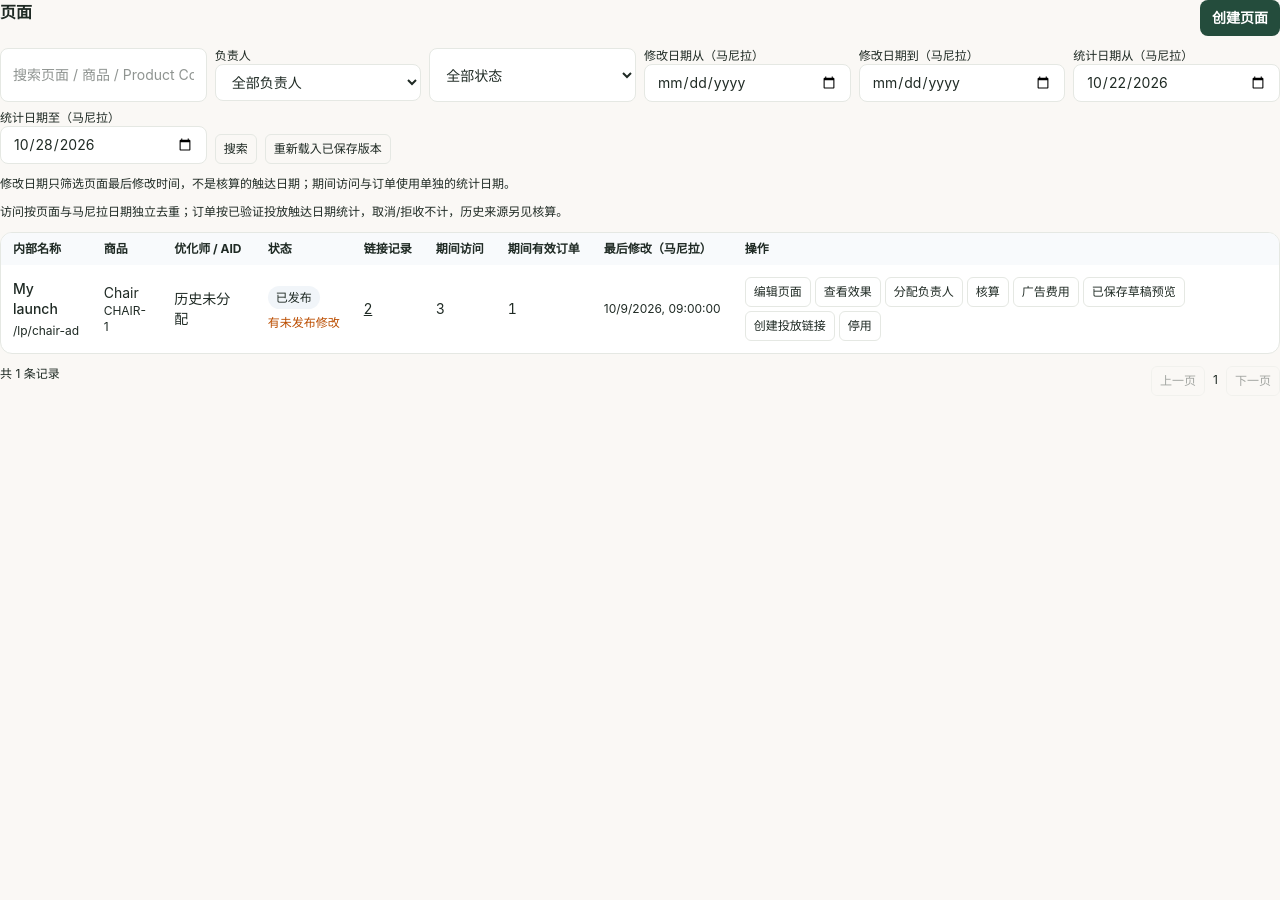
Test: marketing page workbench › assigns a legacy page using its real version, preserves a conflicted choice and reloads only explicitly
Expected: the text "My launch" is shown, x1=13 y1=280 x2=58 y2=317
Click the button "分配负责人" at (924,292), box x1=885 y1=277 x2=963 y2=307
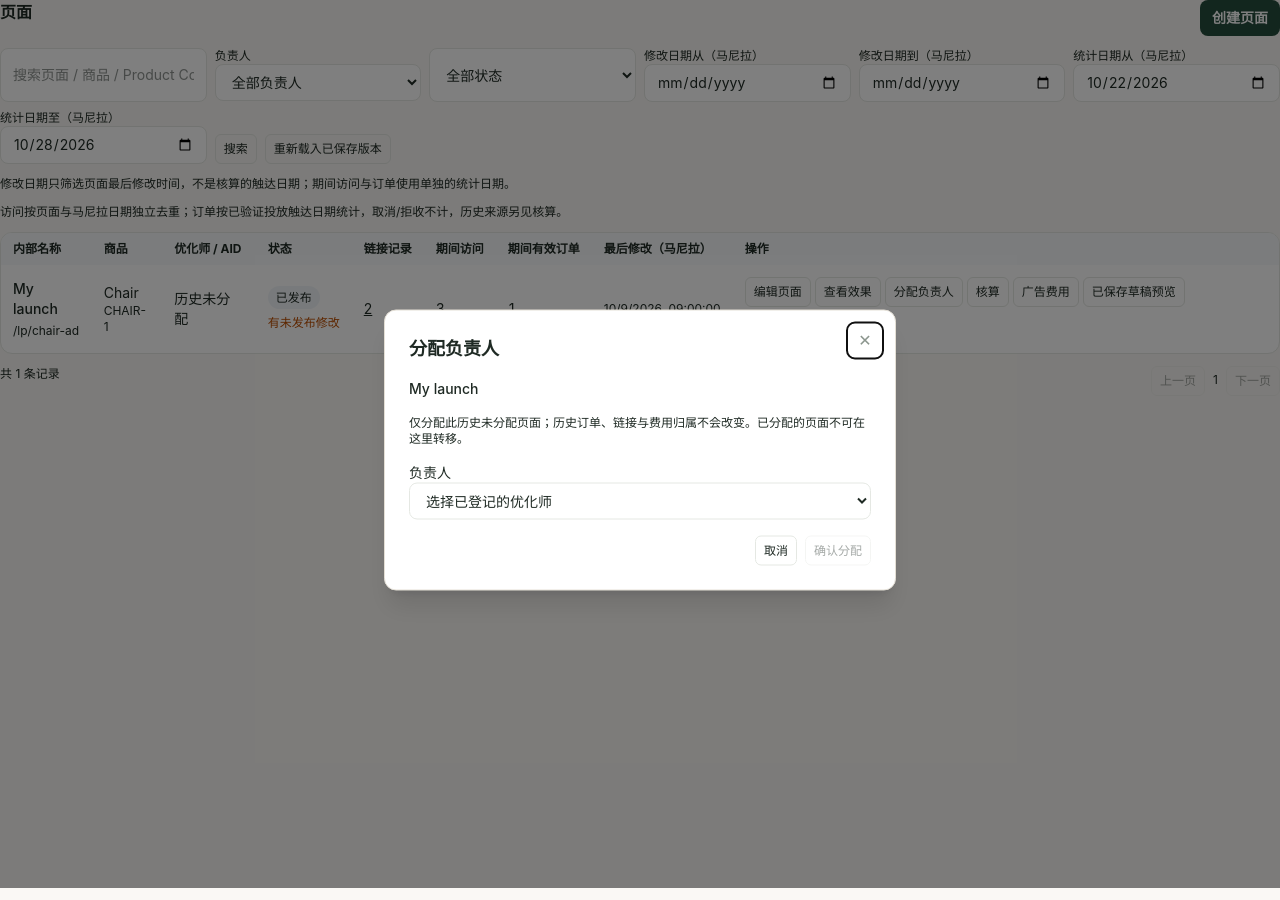
Now the text "仅分配此历史未分配页面；历史订单、链接与费用归属不会改变。已分配的页面不可在这里转移。" is shown, box x1=409 y1=414 x2=871 y2=446
Select "Optimizer · OP-1" in the dropdown labelled "负责人" at (640,501), box x1=409 y1=482 x2=871 y2=520
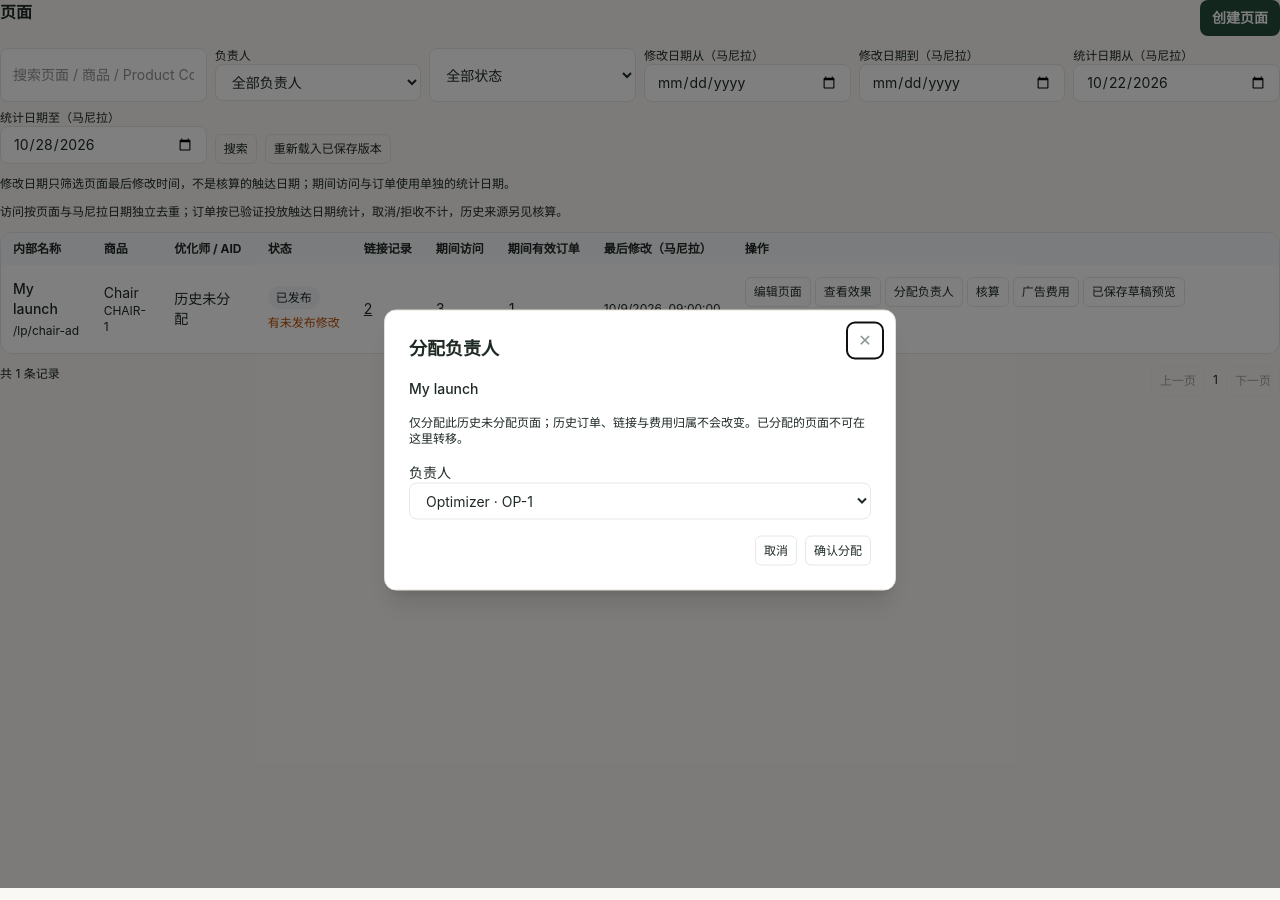
Click the button "确认分配" at (838,550), box x1=805 y1=536 x2=871 y2=566
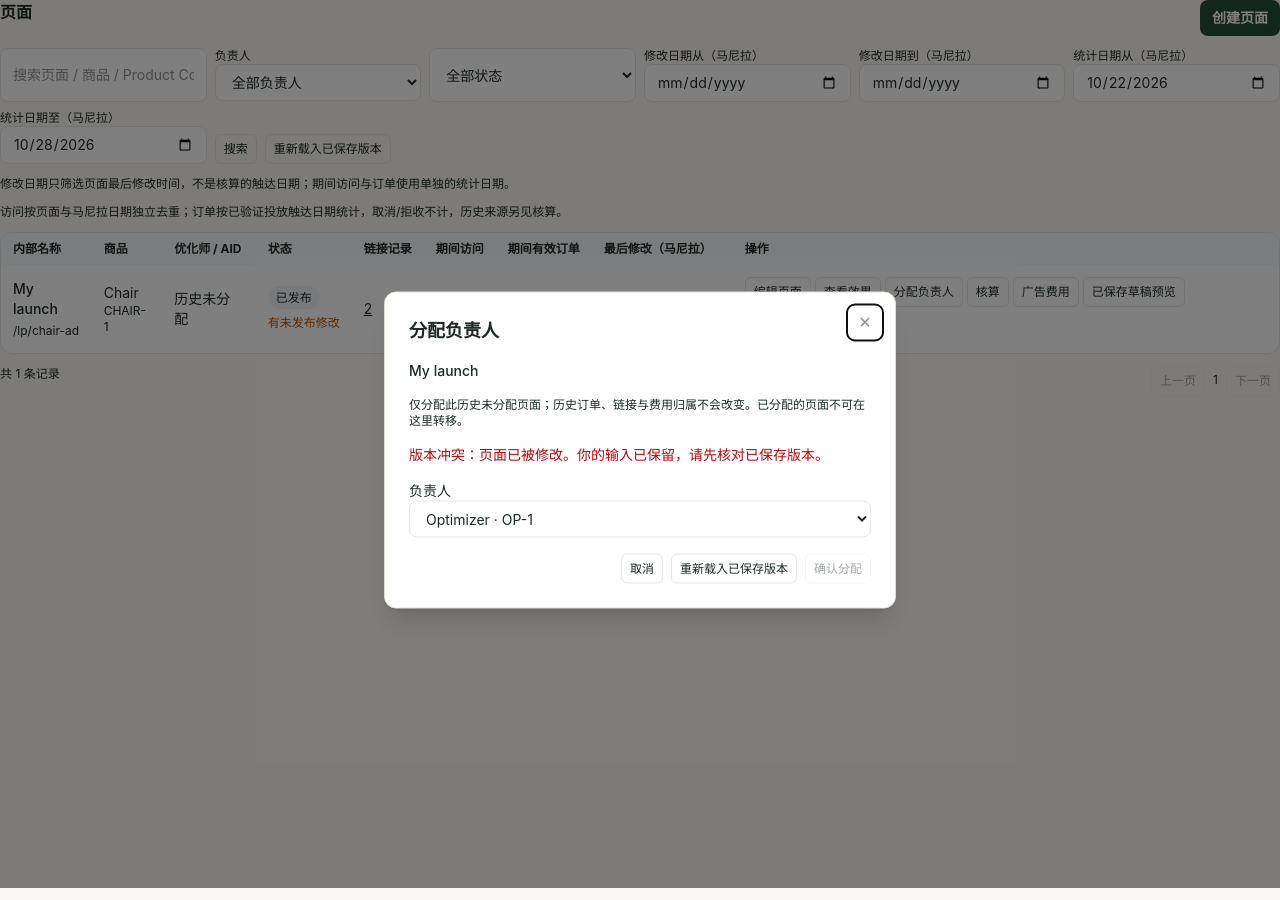
Now the message "版本冲突：页面已被修改。你的输入已保留，请先核对已保存版本。" is shown, box x1=409 y1=444 x2=871 y2=464
Click the button "重新载入已保存版本" at (734,568), box x1=671 y1=554 x2=797 y2=584
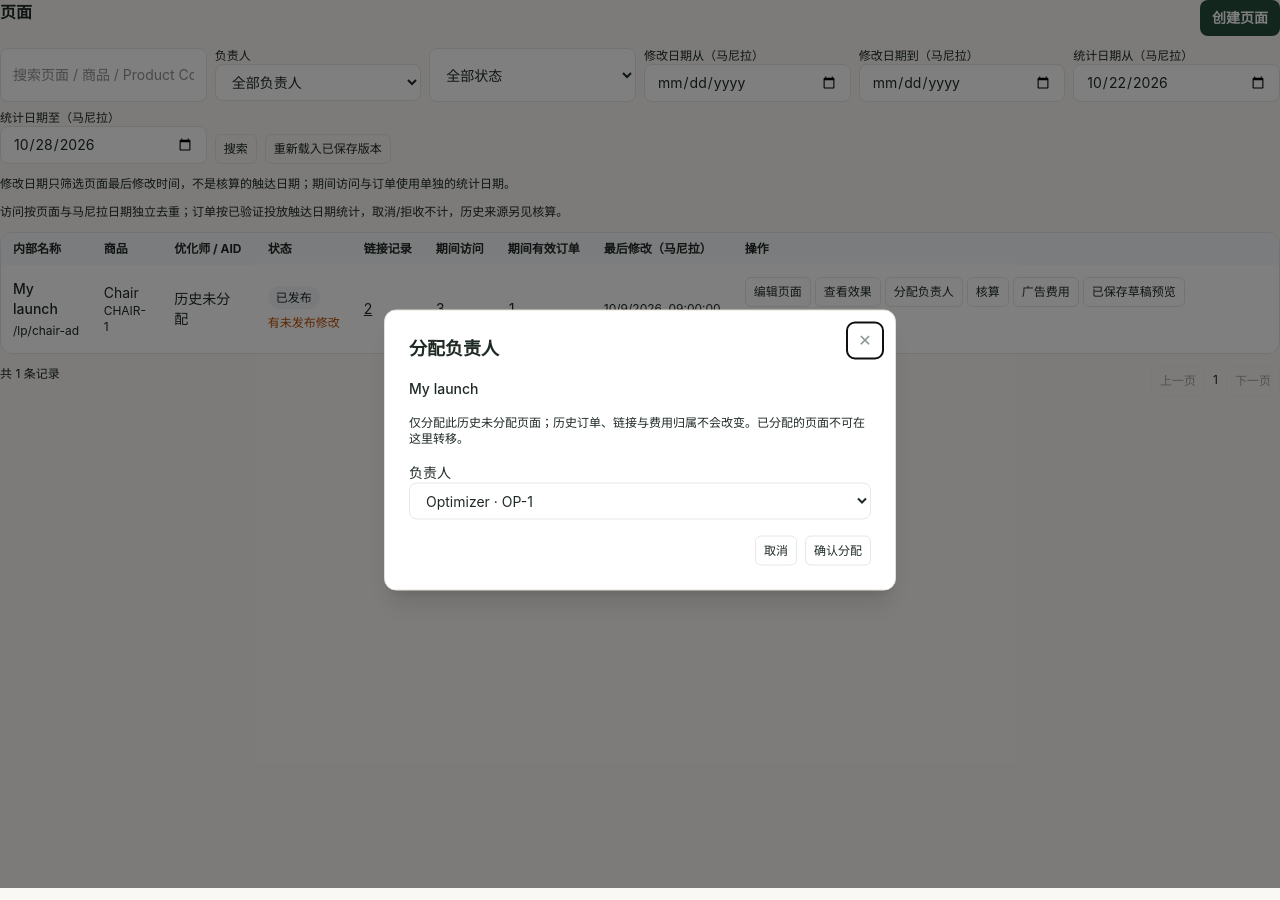
Now the message "版本冲突：页面已被修改。你的输入已保留，请先核对已保存版本。" is gone
Click the button "确认分配" at (838,550), box x1=805 y1=536 x2=871 y2=566
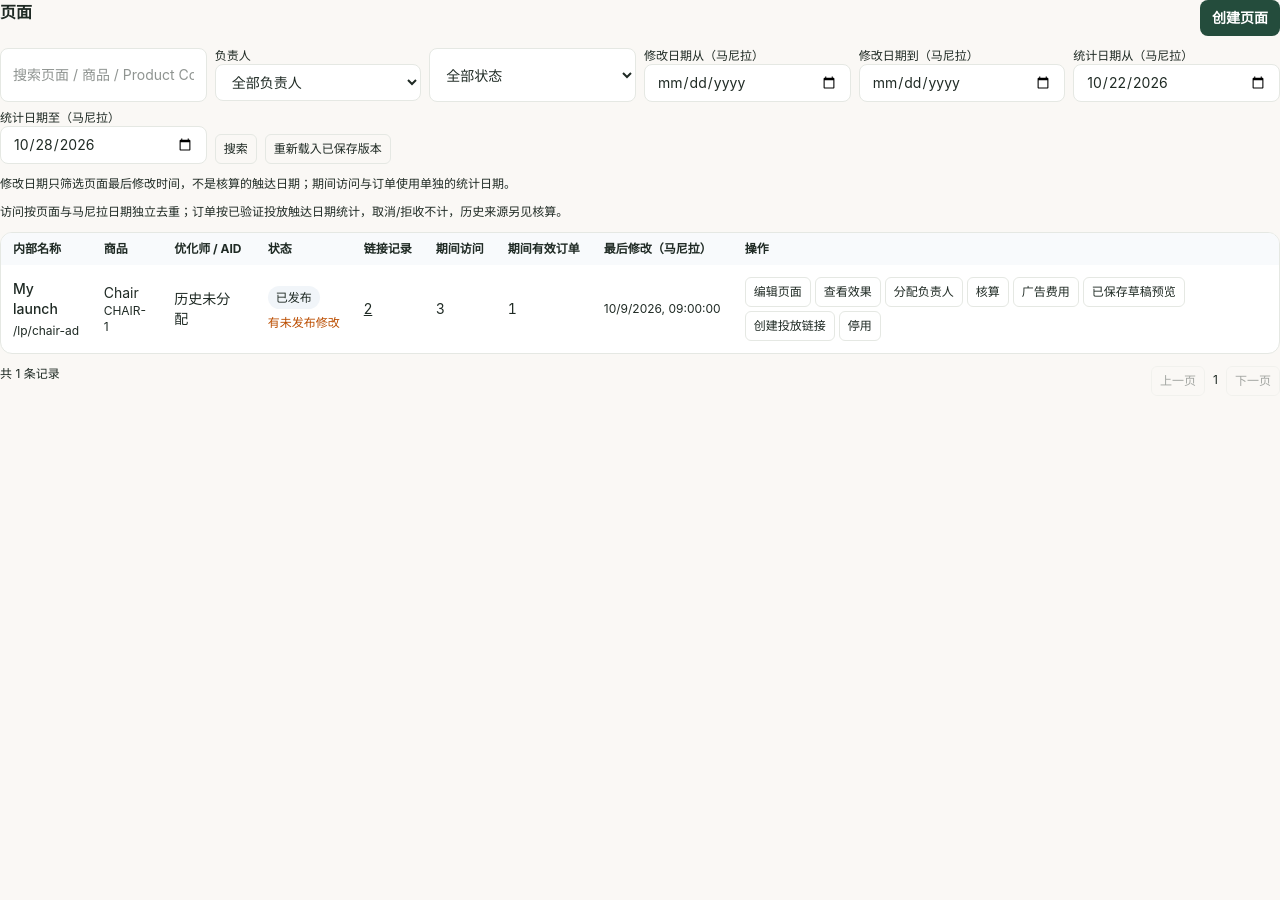
Now the dialog is gone
